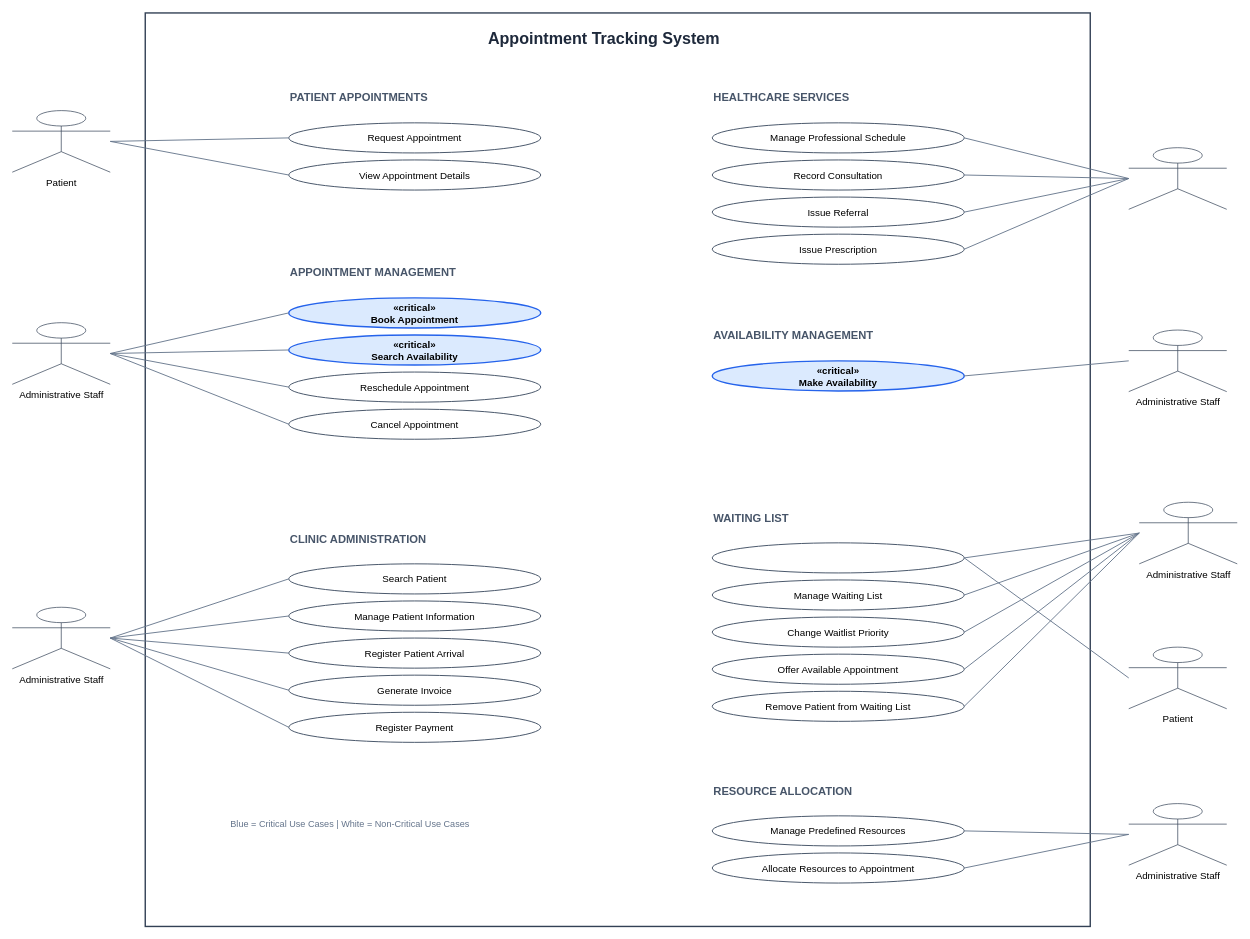
Image size: 1250x939. Some labels were removed from this diagram. Here are the shapes that lost their labels. From the top down, the centre of each, then its label:
At (1177,178): "Healthcare Professional".
At (837,557): "Request Waitlist Placement".
